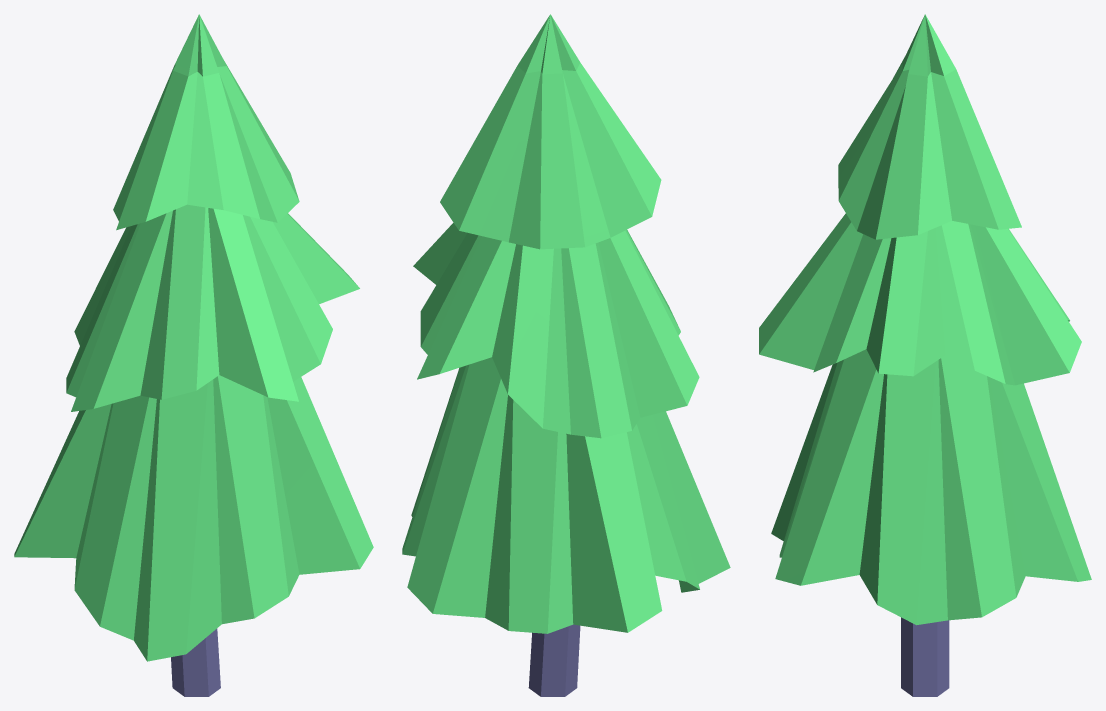
Rendered from SM_Tree_03.fbx.
The picture shows the model from 3 angles, left to right: view 1: azimuth 30°, elevation 25°; view 2: azimuth 150°, elevation 25°; view 3: azimuth 270°, elevation 25°; orthographic projection.
Parts seen in each view (by area): view 1: Tree Type2 03 Model; view 2: Tree Type2 03 Model; view 3: Tree Type2 03 Model.
Boxes of the visible parts, bbox=[...] form: Tree Type2 03 Model: bbox=[14, 14, 373, 696]; Tree Type2 03 Model: bbox=[402, 14, 730, 696]; Tree Type2 03 Model: bbox=[759, 14, 1091, 696].
Size of the model in its own units: 188 by 415 by 186.
